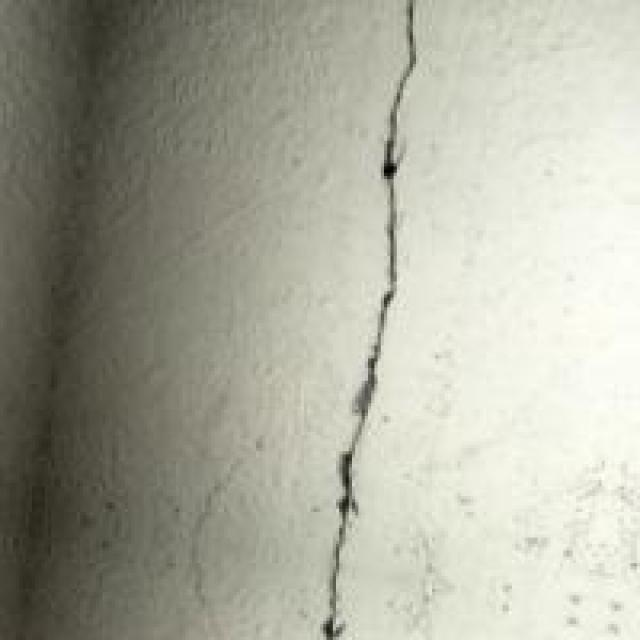crack: (323, 0, 442, 637)
